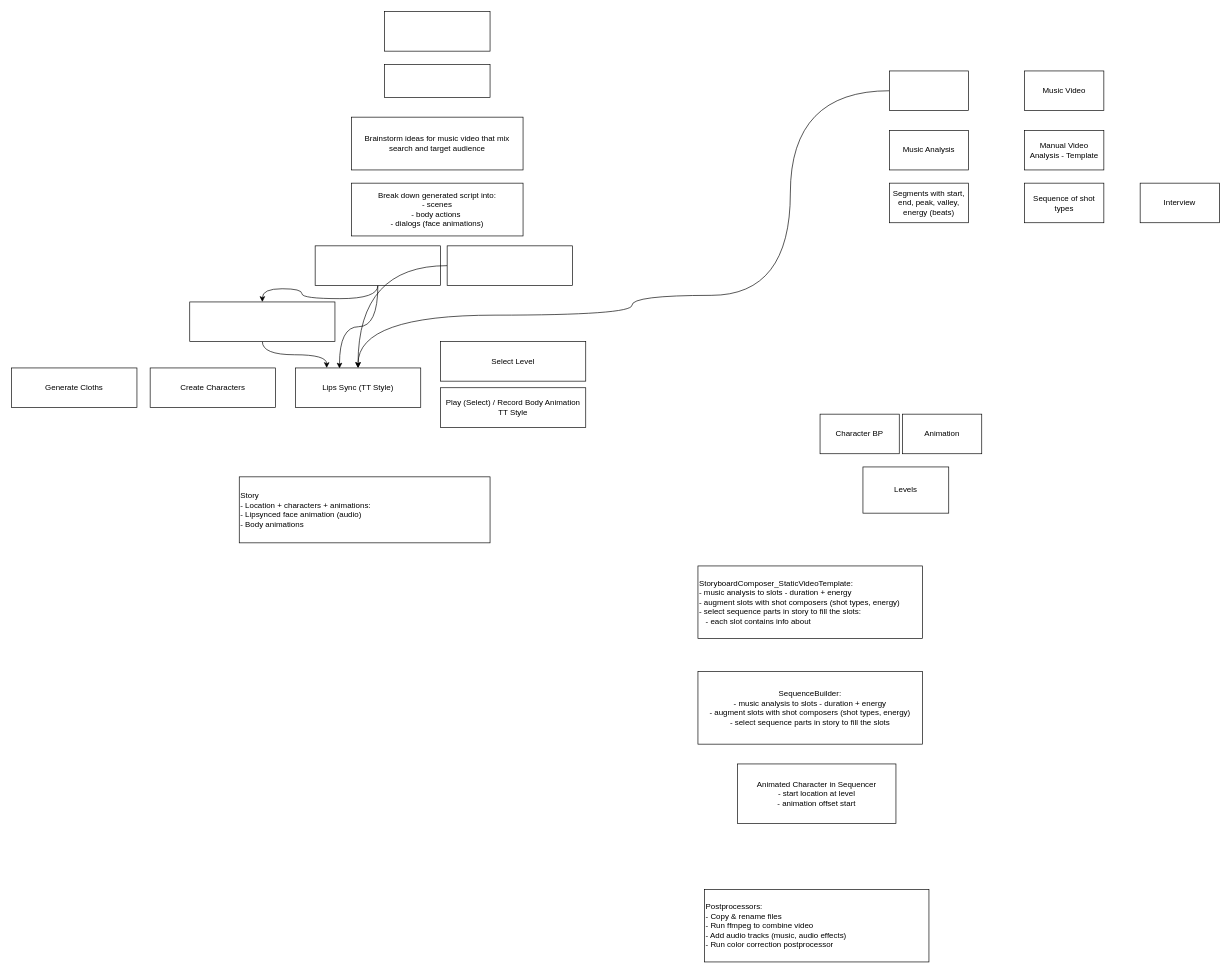
The diagram is 1231 pixels wide and 974 high, and some of its shapes have lost their labels. Each missing label, with the centre of its shape:
List top Keywords for target audience: the point at 437,31
List top trendy keywords - google trends - youtube search: the point at 437,80
Music: the point at 929,90
VOCALOID - Generate Music: the point at 262,321
Voice Recording: the point at 509,265
Voice Synthesis: the point at 377,265
